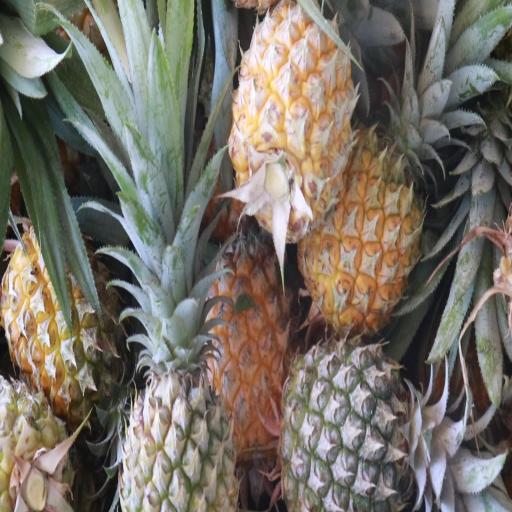------------------------------: (2, 230, 123, 422)
Pineapple - v8 v1: (224, 2, 352, 230), (303, 130, 426, 334), (206, 211, 294, 437)
